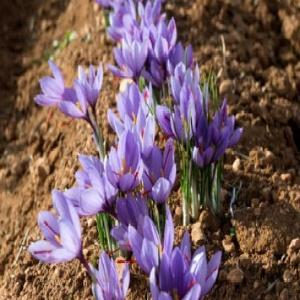Saffron: (28, 188, 87, 270), (67, 156, 117, 215), (103, 135, 146, 188), (152, 252, 196, 300), (194, 124, 227, 166), (142, 148, 173, 192), (57, 86, 92, 119), (118, 36, 149, 73), (76, 66, 106, 104)
